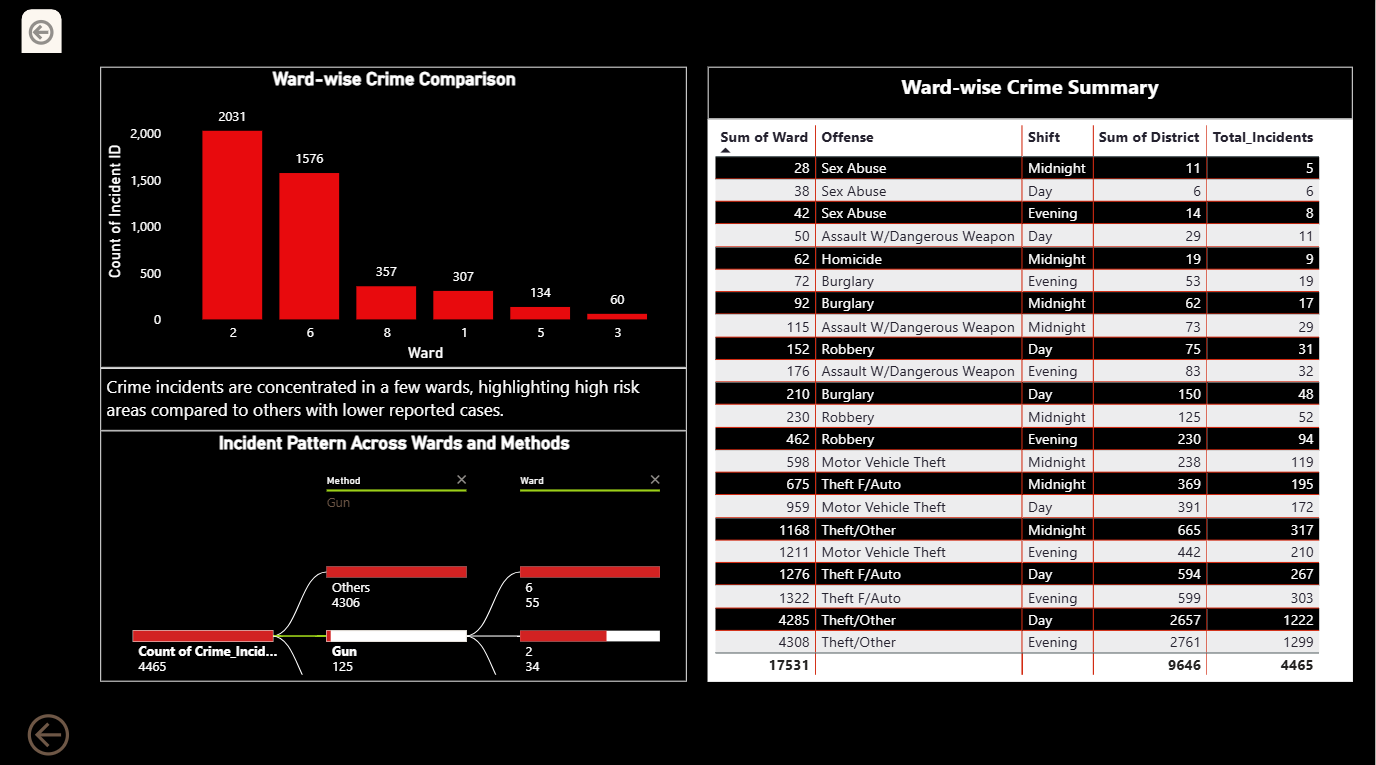

This screenshot's page, from the dashboard's own definition file:
{"tool":"powerbi","page":{"name":"Ward Details","canvas":[1280,720],"ordinal":2},"visuals":[{"type":"tableEx","fields":{"Values":["Sum(Crime_Incidents_in_2025.Ward)","Crime_Incidents_in_2025.Offense","Crime_Incidents_in_2025.Shift","Sum(Crime_Incidents_in_2025.District)","Crime_Incidents_in_2025.Total_Incidents"]},"box":[659.3,112.8,600,523.3],"z":0},{"type":"clusteredColumnChart","title":"Ward-wise Crime Comparison","fields":{"Category":["Crime_Incidents_in_2025.Ward"],"Y":["CountNonNull(Crime_Incidents_in_2025.Crime_Incident_ID)"]},"box":[94.2,64,545.4,280.2],"z":1000},{"type":"actionButton","box":[20.9,10.5,37.2,40.7],"z":2000},{"type":"textbox","box":[659.3,64,600,48.8],"z":3000},{"type":"textbox","box":[94.2,344.2,545.4,58.1],"z":4000},{"type":"actionButton","box":[20.9,660.5,53.5,50],"z":5000},{"type":"decompositionTreeVisual","title":"Incident Pattern Across Wards and Methods","fields":{"Analyze":["CountNonNull(Crime_Incidents_in_2025.Crime_Incident_ID)"],"ExplainBy":["Crime_Incidents_in_2025.Method","Crime_Incidents_in_2025.Ward"]},"box":[94.2,402.3,545.4,233.7],"z":6000}]}

Visuals, with their boxes in screenshot pixels (x1, y1, x2, y2), scaled from the page's 1280x720 canvas onto the 1376x765 screenshot:
tableEx - Sum(Crime_Incidents_in_2025.Ward) x Crime_Incidents_in_2025.Offense: l=709, t=120, r=1354, b=676
"Ward-wise Crime Comparison" clusteredColumnChart: l=101, t=68, r=688, b=366
actionButton: l=22, t=11, r=62, b=54
textbox: l=709, t=68, r=1354, b=120
textbox: l=101, t=366, r=688, b=427
actionButton: l=22, t=702, r=80, b=755
"Incident Pattern Across Wards and Methods" decompositionTreeVisual: l=101, t=427, r=688, b=676
